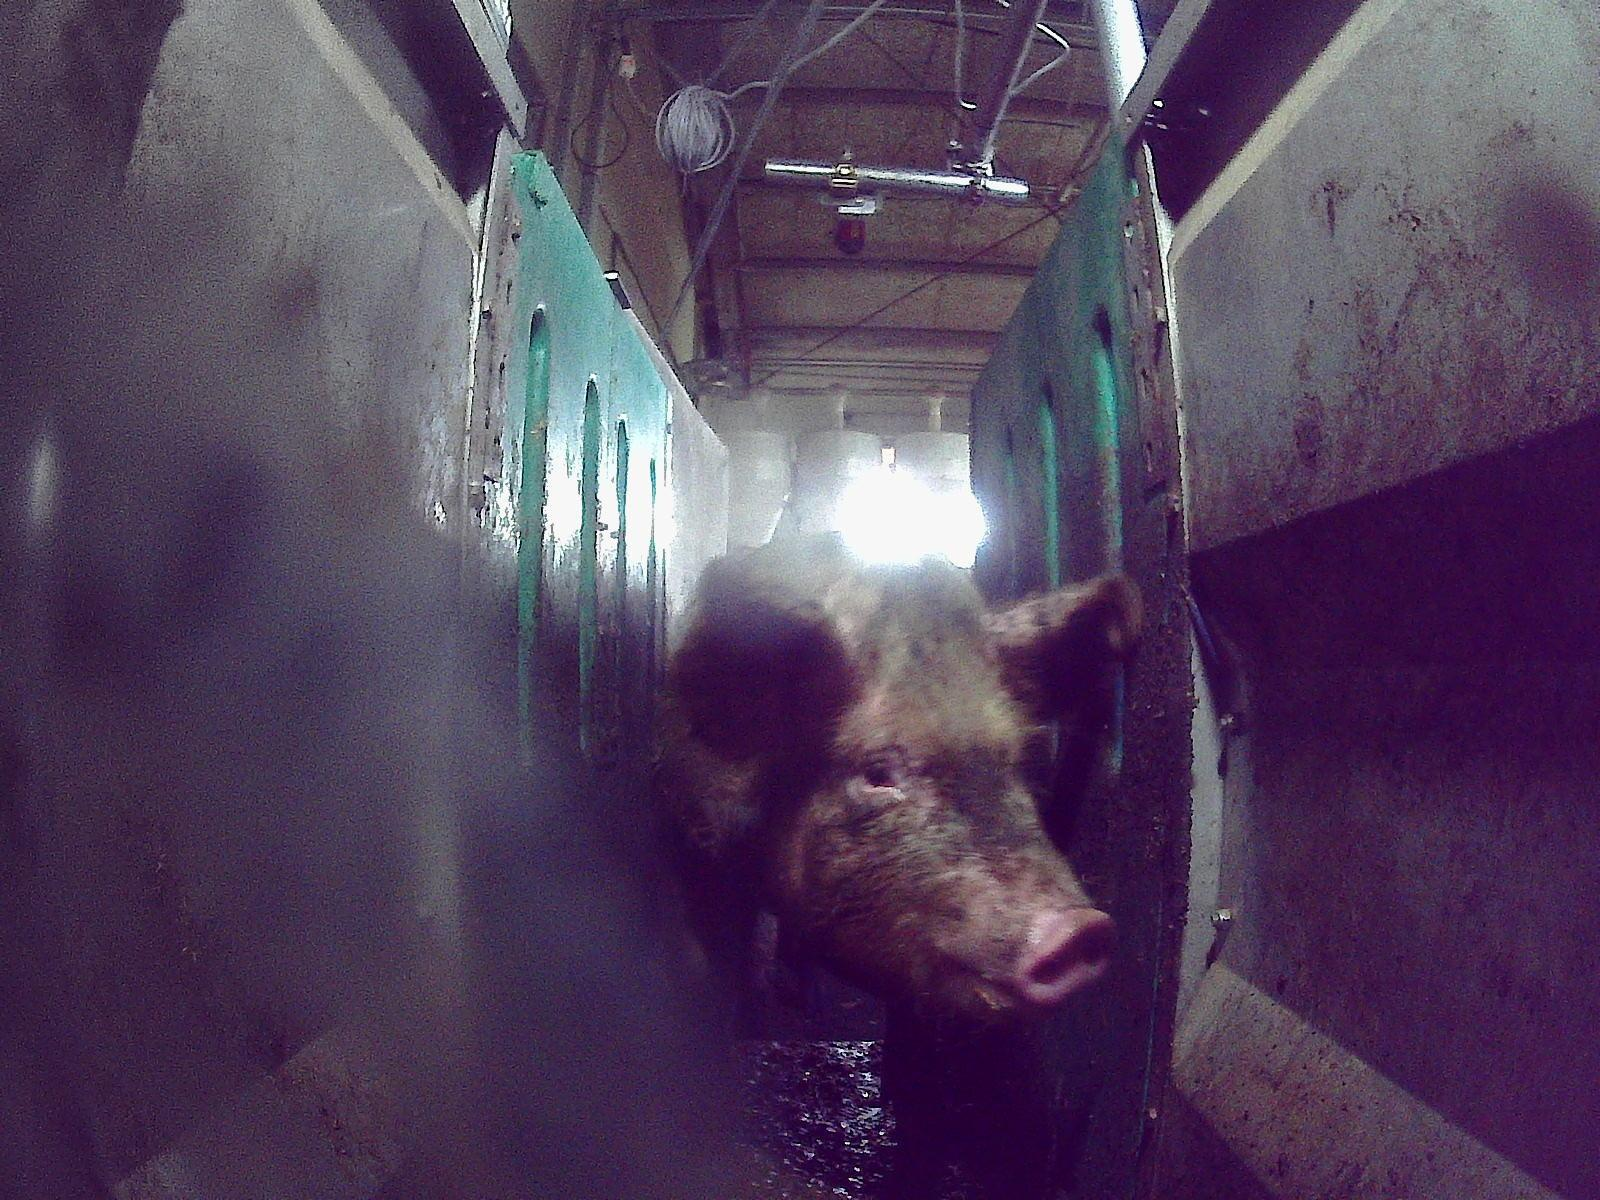Face: (759, 570, 1116, 1023)
